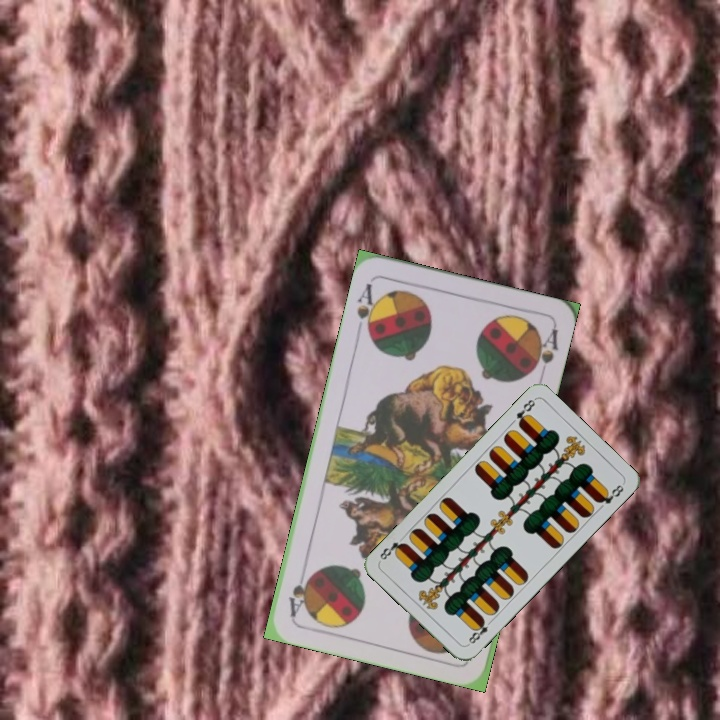E8: (463, 615, 495, 648), (512, 395, 538, 429)
SA: (353, 279, 381, 338)
